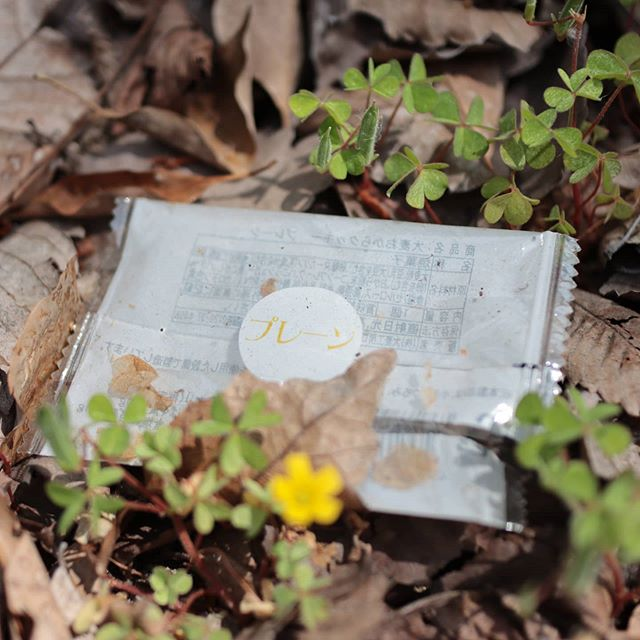trash: (63, 160, 608, 558)
